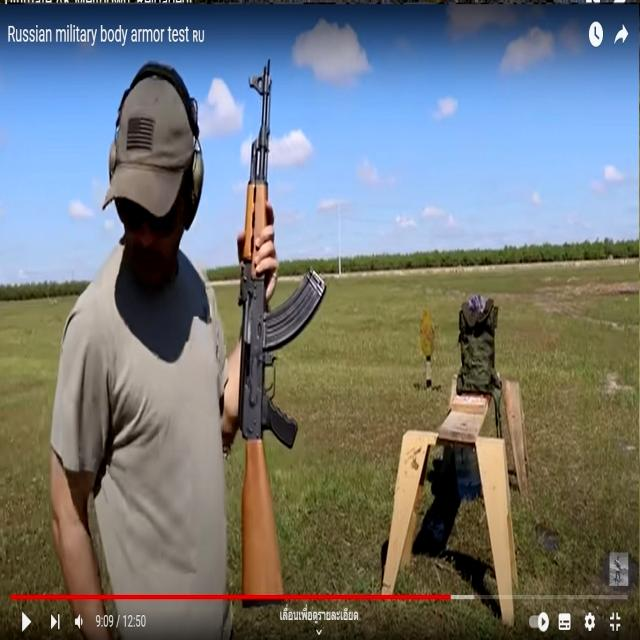ak: (221, 57, 332, 603)
